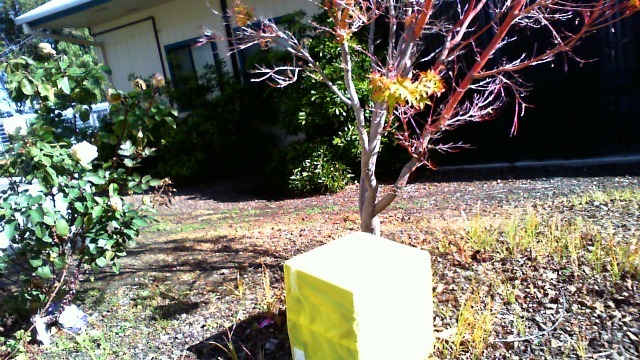cube: (281, 231, 437, 360)
